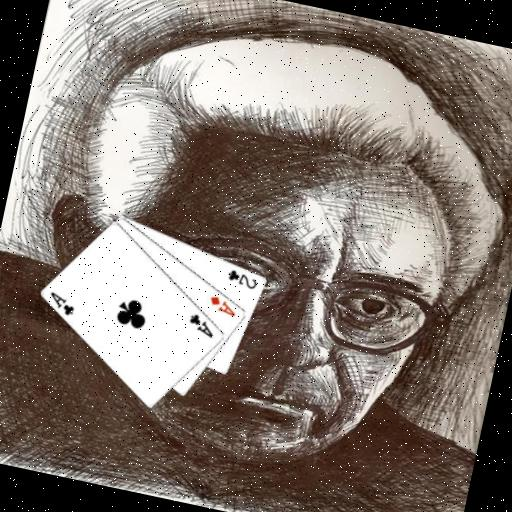2C: (223, 265, 260, 291)
AC: (183, 309, 219, 340), (43, 288, 79, 318)
AD: (204, 291, 240, 318)
